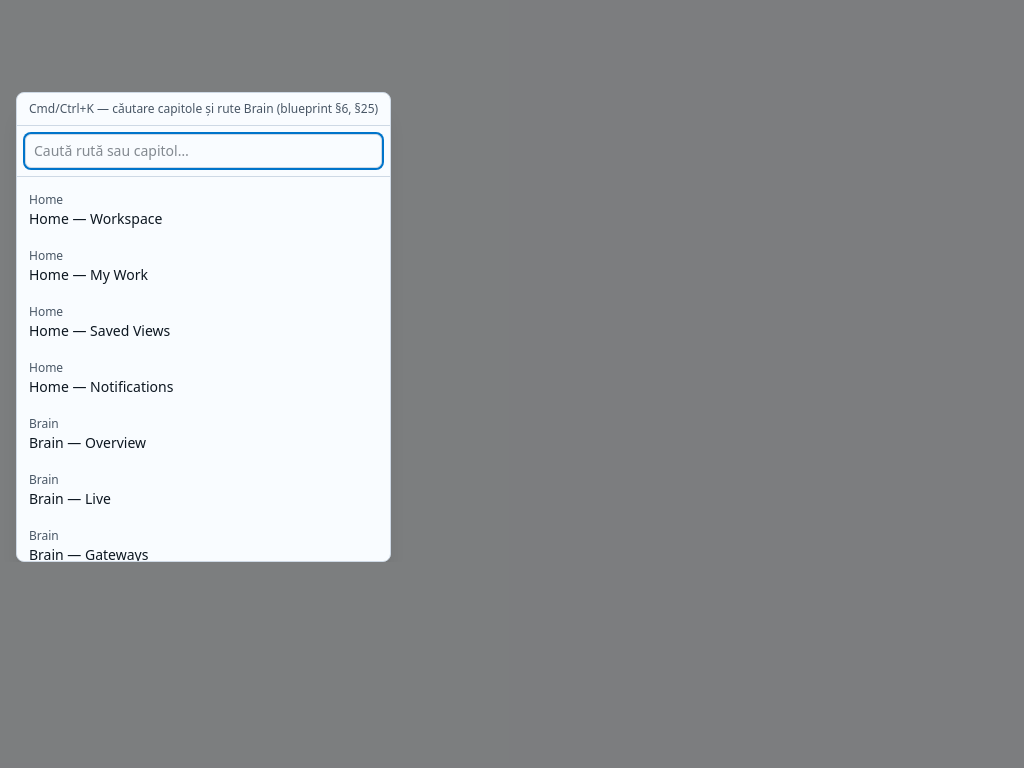
Test: CommandPalette › filtrează rezultatele după textul din căutare
Type "Admin — Users" into the search field with placeholder "Caută rută sau capitol…". click: (204, 151)
box: [25, 134, 382, 168]
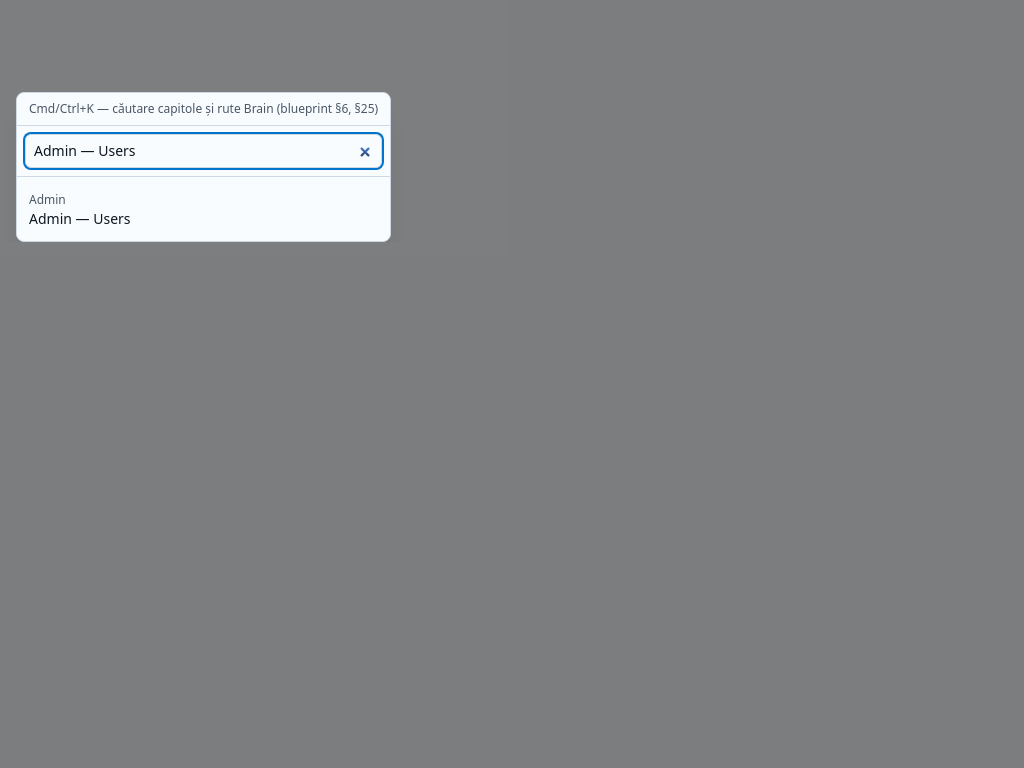
Now the text "Admin — Users" is shown, box [29, 209, 130, 228]
Now the link "Brain — Overview" is gone
